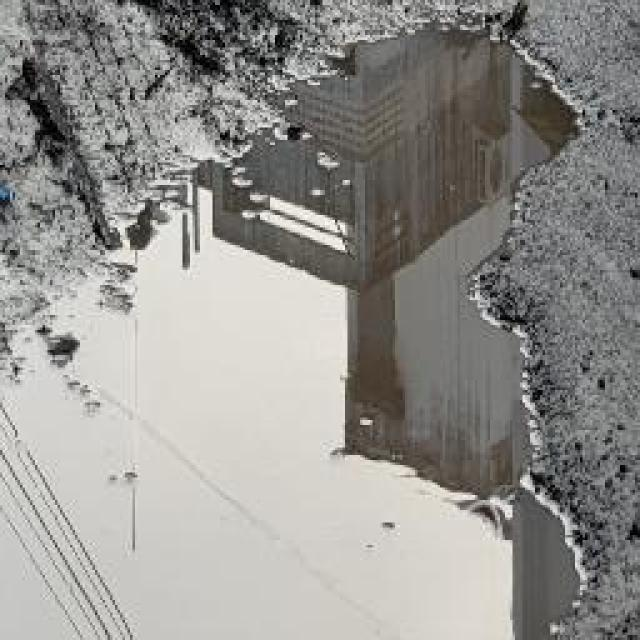puddle: (1, 21, 592, 640)
